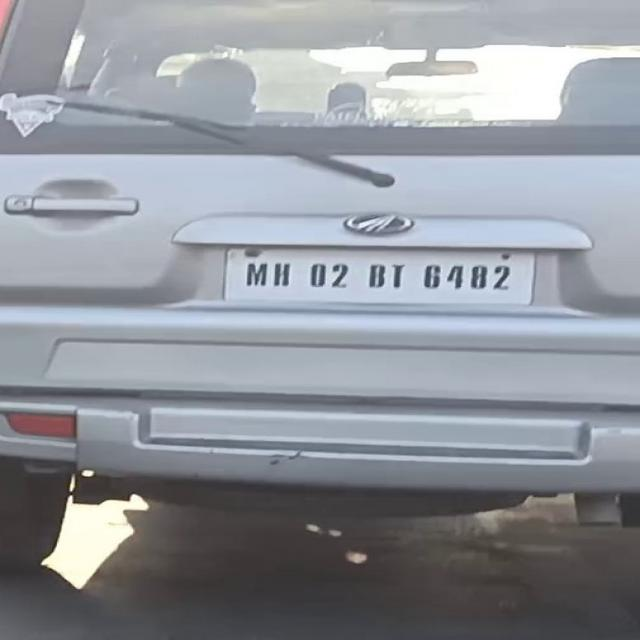Plate: (222, 246, 535, 306)
